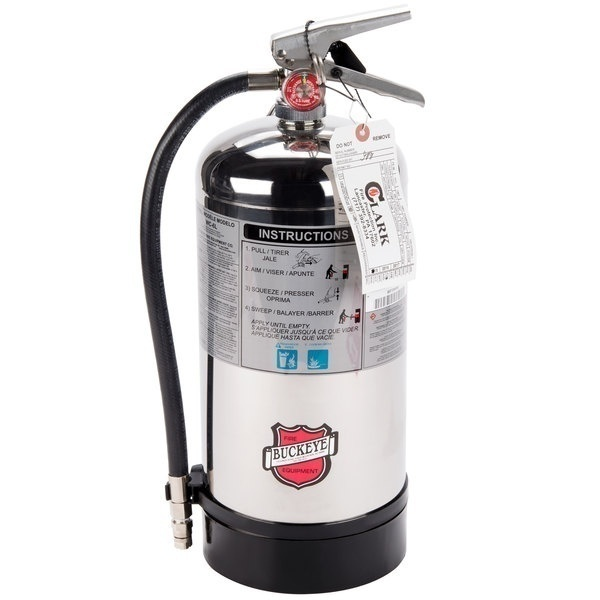fire_extinguisher: (139, 5, 426, 595)
